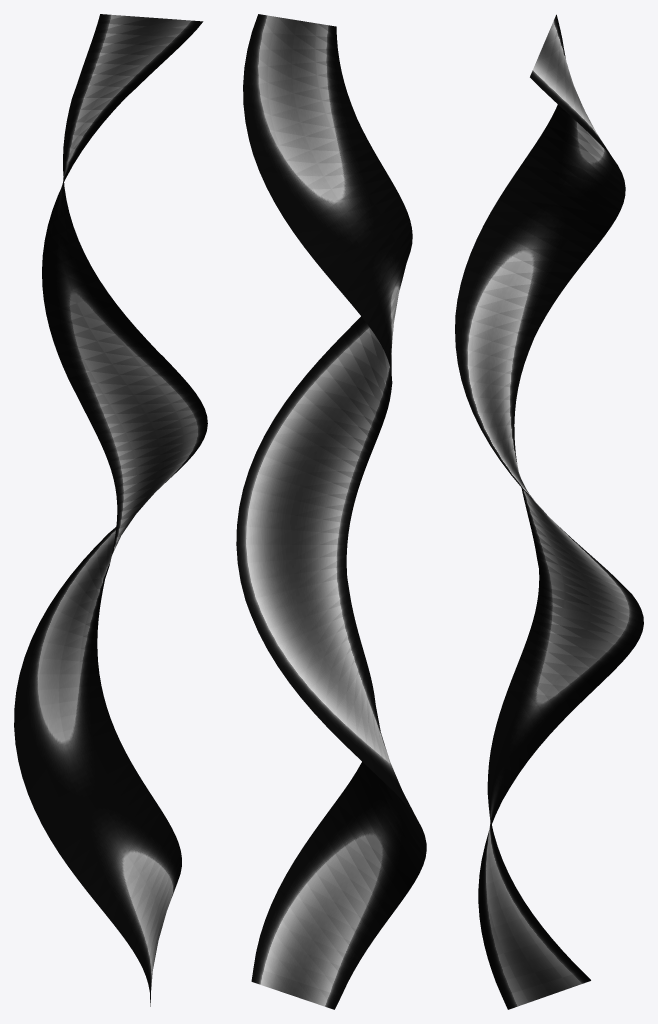
File: 0371_luoxianxian01.glb
The picture shows the model from 3 angles, left to right: view 1: azimuth 30°, elevation 25°; view 2: azimuth 150°, elevation 25°; view 3: azimuth 270°, elevation 25°; orthographic projection. The views are drawn at different scales.
Size of the model in its own units: 0.3874 by 2.2 by 0.3831.
Materials: 1 (1 with a texture image).
